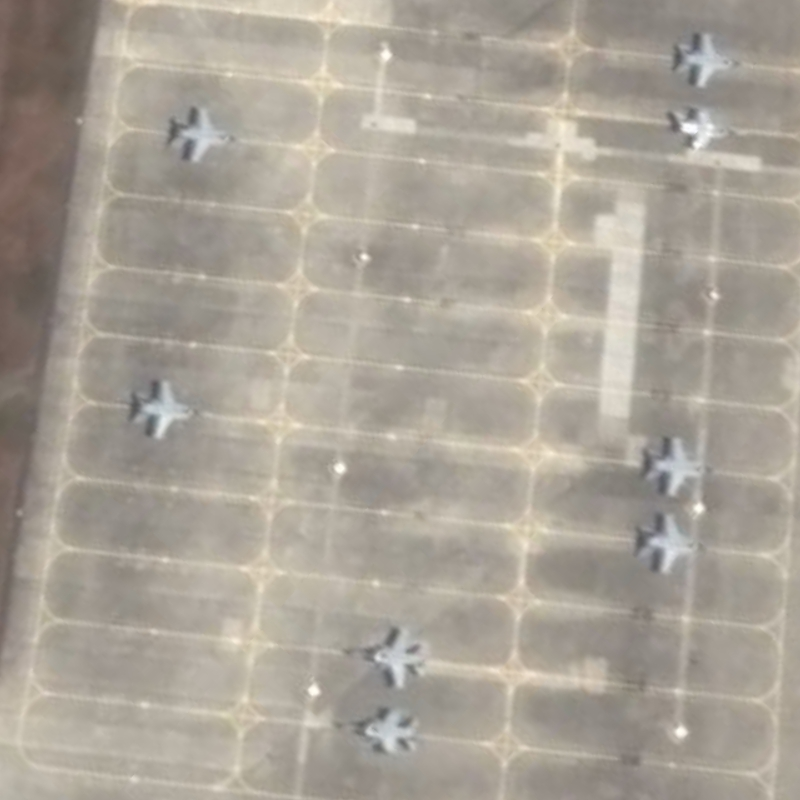A16: (326, 616, 439, 694), (629, 429, 730, 502), (630, 505, 720, 584), (324, 696, 427, 765), (667, 20, 758, 97), (165, 95, 249, 172), (124, 371, 209, 444)
